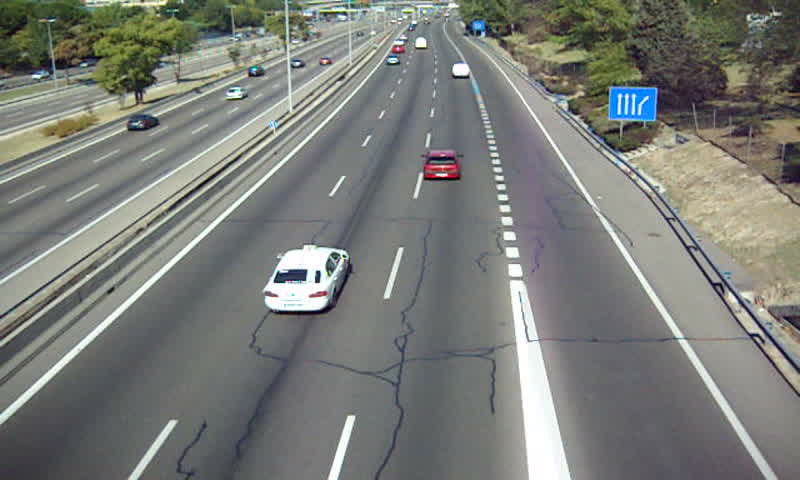car: (263, 247, 349, 313), (422, 150, 461, 181), (385, 53, 400, 66)
van: (451, 62, 470, 79)
